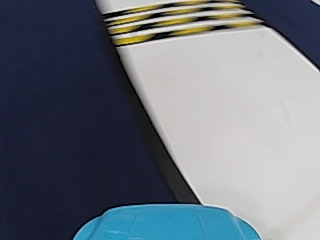bump: (116, 2, 238, 44)
